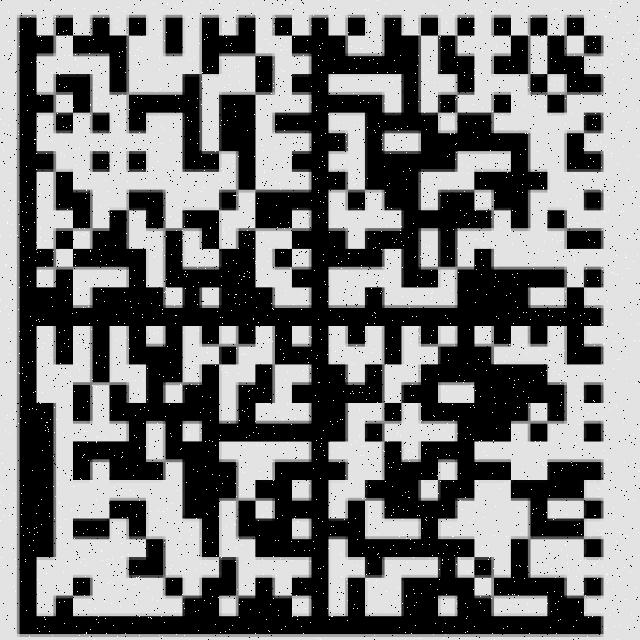datamatrix: (11, 9, 612, 640)
